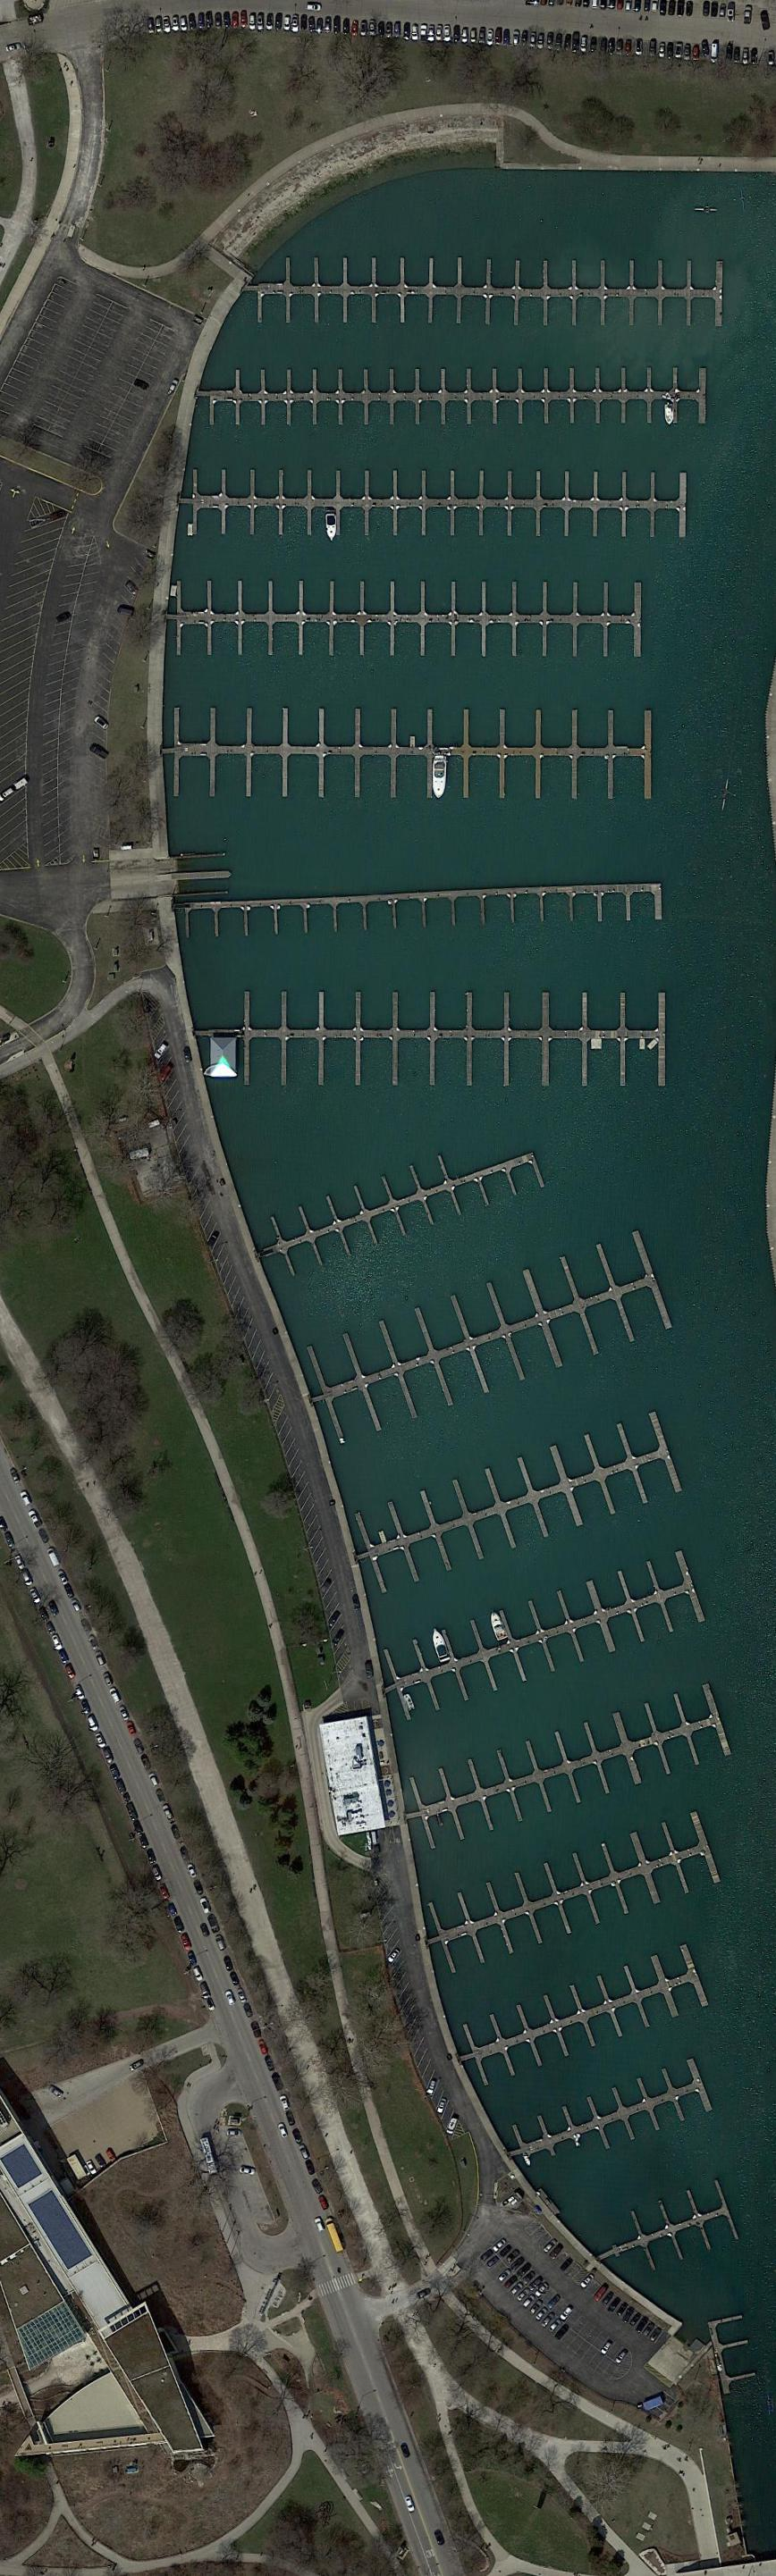harbor: (295, 1228, 676, 1449), (338, 1407, 685, 1598), (367, 1547, 710, 1726), (391, 1681, 733, 1858), (409, 1808, 724, 1978), (187, 985, 667, 1089), (161, 701, 652, 802), (245, 1125, 546, 1285), (450, 1941, 712, 2092), (165, 579, 644, 659), (232, 252, 725, 328), (177, 468, 688, 539), (195, 365, 710, 427), (179, 881, 664, 938), (499, 2054, 714, 2174), (577, 2177, 742, 2292), (703, 2312, 760, 2396)
ship: (429, 1626, 455, 1665), (430, 753, 451, 800), (488, 1611, 511, 1643), (324, 508, 341, 541), (401, 1692, 418, 1713), (664, 401, 675, 427), (521, 2269, 538, 2285)
